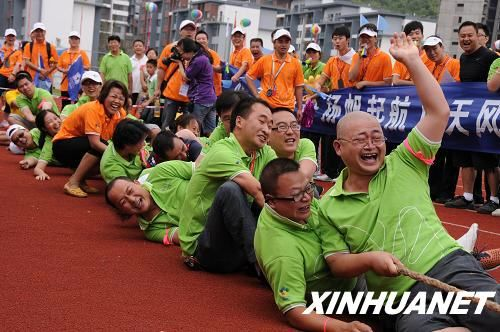10+: (2, 3, 500, 330)
down: (313, 30, 500, 332), (249, 153, 421, 330), (104, 155, 247, 252), (35, 103, 107, 183), (96, 119, 169, 197), (4, 114, 68, 182), (145, 127, 208, 180), (169, 107, 219, 160)
